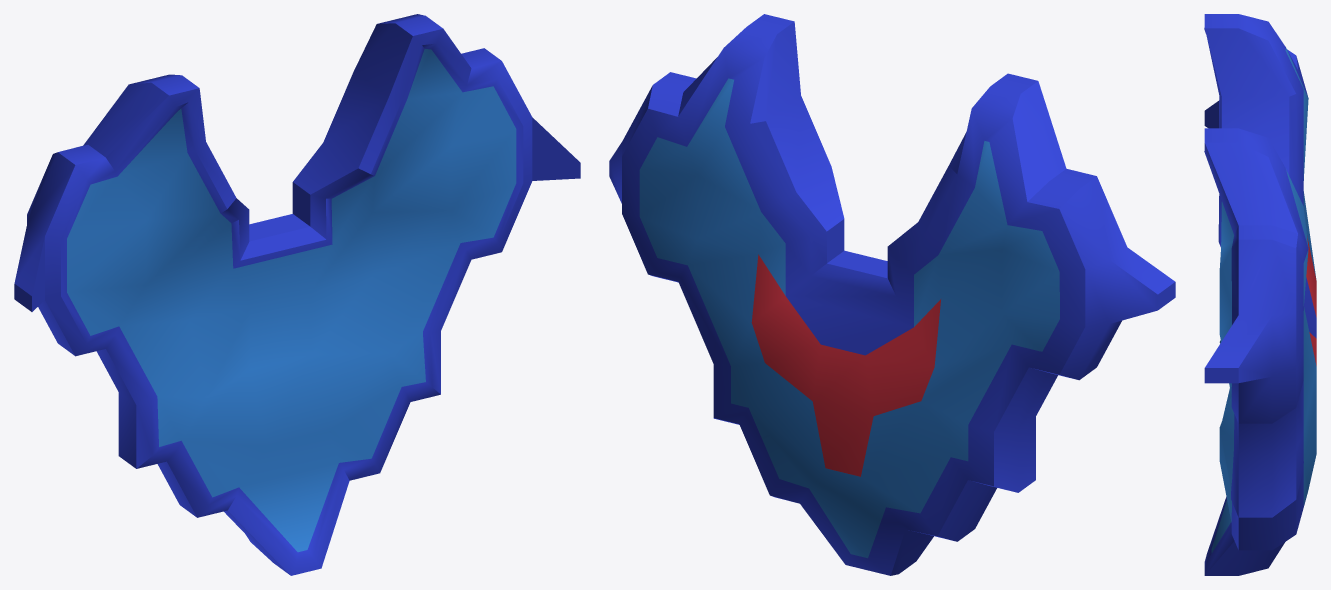
Rendered from Shield.glb.
3 views of the same model, side by side, from view 1: azimuth 30°, elevation 25°; view 2: azimuth 150°, elevation 25°; view 3: azimuth 270°, elevation 25° (orthographic). The views are drawn at different scales.
Parts seen in each view (by area): view 1: Shield; view 2: Shield; view 3: Shield.
Part boxes in pixels (x1,y1,x2,y2): Shield: (14, 14, 580, 575); Shield: (609, 14, 1175, 575); Shield: (1204, 14, 1316, 575).
Size of the model in its own units: 18 by 16 by 3.31.
Materials: 1 (1 with a texture image).
